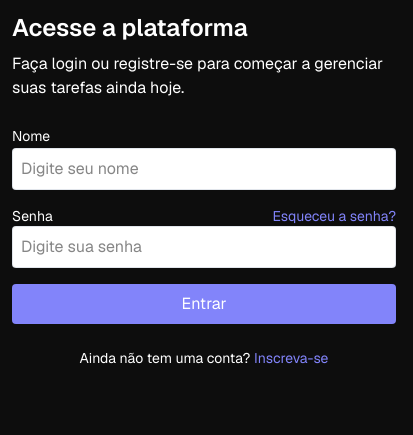
Test: LoginForm › Deve mostrar erro quando login falha
In the field with placeholder "Digite seu nome": (204, 169) top-left (12, 148), bottom-right (396, 190), type "guilherme"
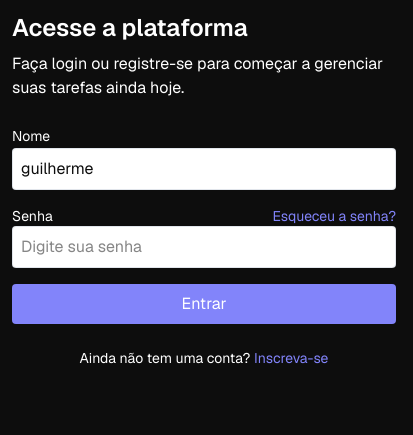
In the password field with placeholder "Digite sua senha": (204, 247) top-left (12, 226), bottom-right (396, 268), type "errado"
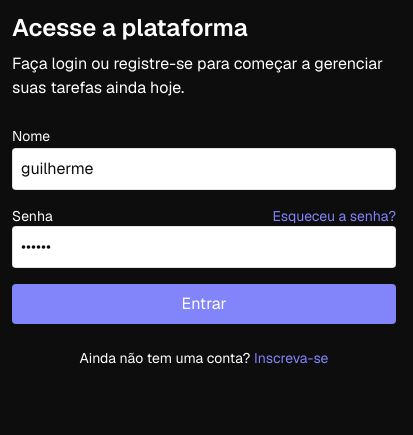
Click the button "Entrar": (204, 304) top-left (12, 284), bottom-right (396, 324)
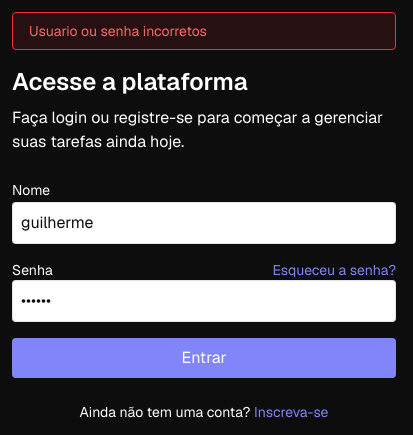
Expected: the text "Usuario ou senha incorretos" is shown, top-left (12, 12), bottom-right (396, 50)
